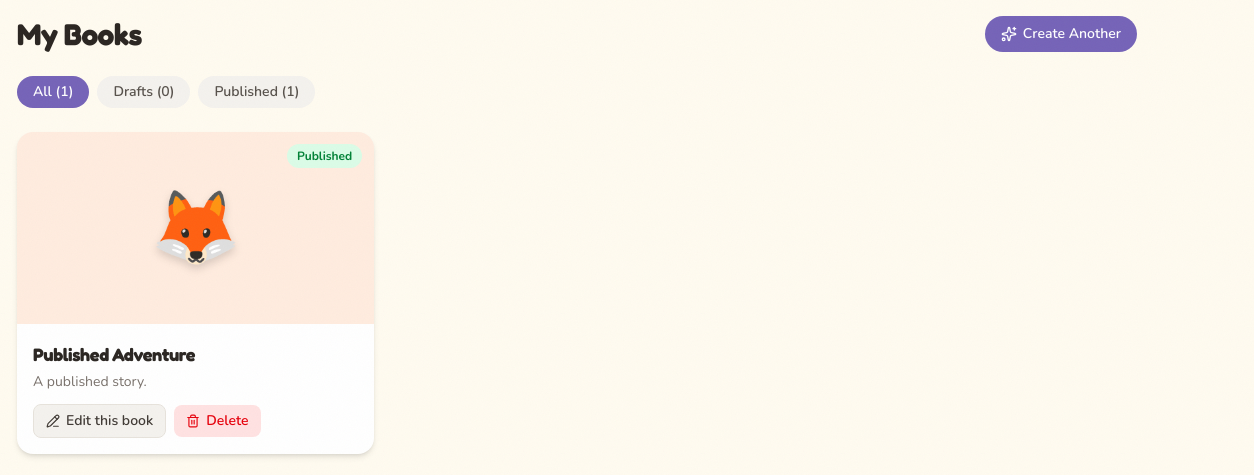
Test: MyBooks — Edit this book (withdraw to edit) › explains a failed withdrawal in the same vocabulary
Expected: the text "Published" is shown, [287, 144, 362, 168]
Click the button "Edit this book".
click(100, 421)  # box [33, 404, 166, 438]
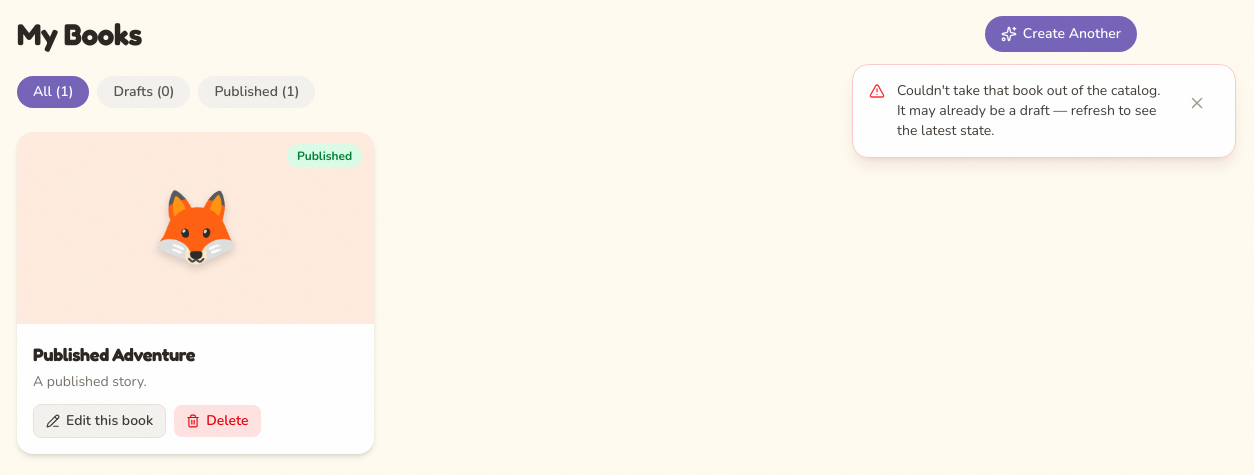
Expected: the text "Published" is shown, [287, 144, 362, 168]
Now the text "refresh to see the latest state" is shown, box [897, 81, 1160, 140]
